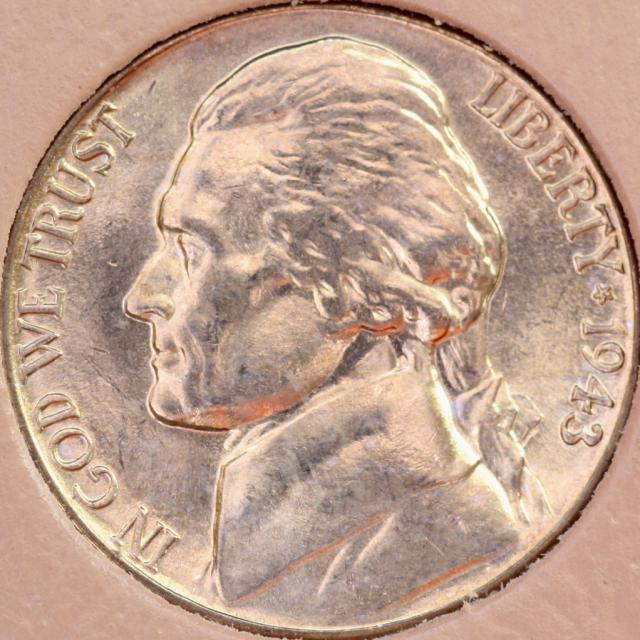Coin: (0, 0, 633, 640)
